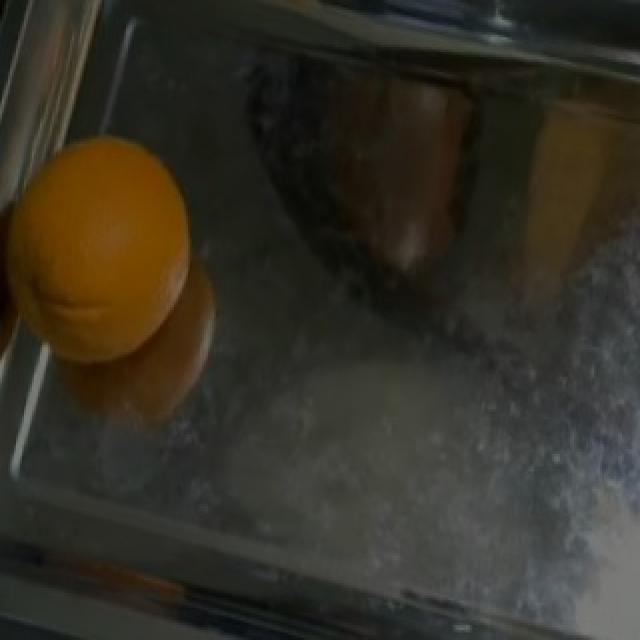Fruit: (0, 114, 218, 387)
